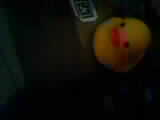duck: (90, 10, 157, 76)
